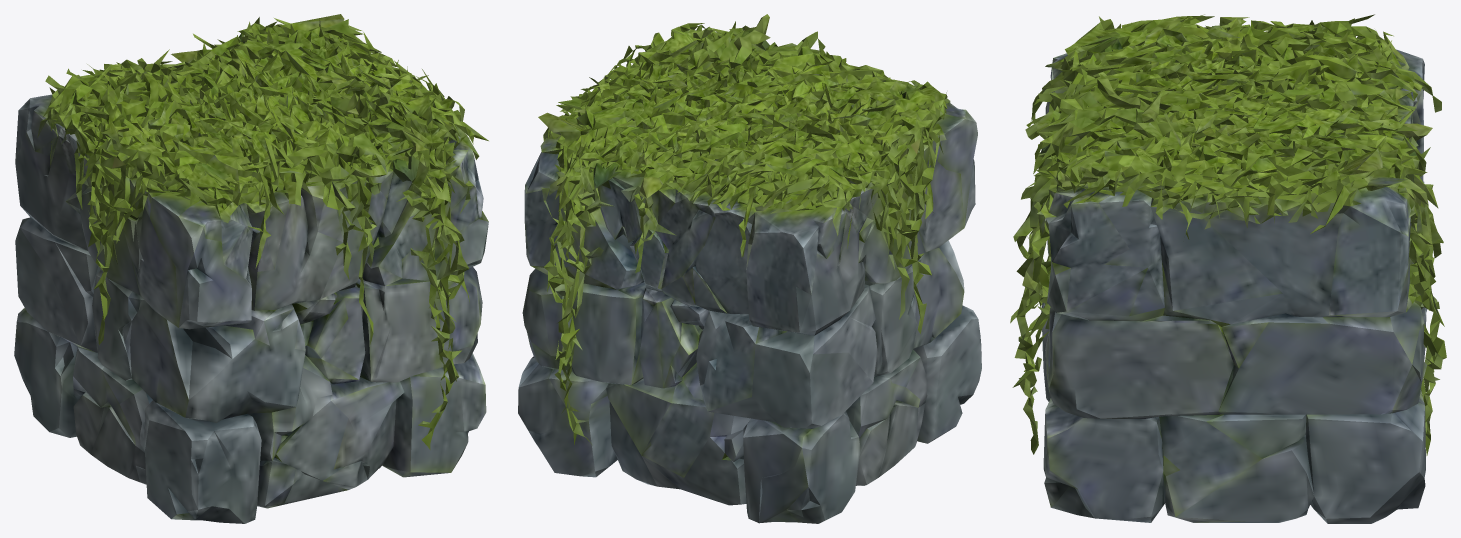
The model's file is wall.glb.
3 views of the same model, side by side, from view 1: azimuth 30°, elevation 25°; view 2: azimuth 150°, elevation 25°; view 3: azimuth 270°, elevation 25° (orthographic). The views are drawn at different scales.
Visible parts, largest first — view 1: Mesh_0; view 2: Mesh_0; view 3: Mesh_0.
Part boxes in pixels (bbox=[...]): Mesh_0: bbox=[14, 14, 488, 523]; Mesh_0: bbox=[518, 14, 981, 523]; Mesh_0: bbox=[1010, 14, 1446, 523].
Size of the model in its own units: 1 by 1 by 1.
Materials: 1 (1 with a texture image).
